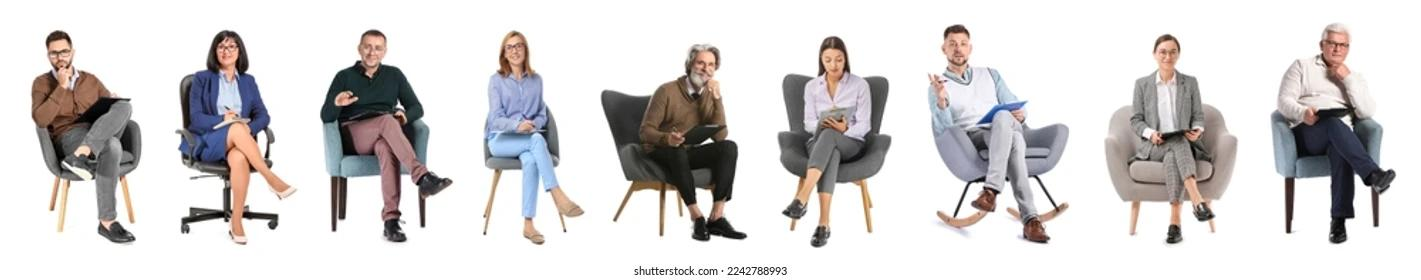jacket: (1129, 68, 1208, 163), (186, 65, 272, 131)
long sleeve shirt: (317, 58, 425, 126), (926, 66, 1025, 131), (803, 70, 874, 143), (487, 69, 549, 136), (213, 68, 246, 128)
skirt: (186, 122, 253, 163)
sweater: (1274, 55, 1378, 127), (637, 75, 730, 149), (29, 67, 116, 139)
trousers: (58, 97, 133, 224), (338, 114, 428, 219), (1291, 116, 1379, 221), (966, 111, 1041, 223), (487, 128, 561, 220), (651, 139, 739, 206), (804, 127, 864, 196), (1146, 137, 1197, 208)
